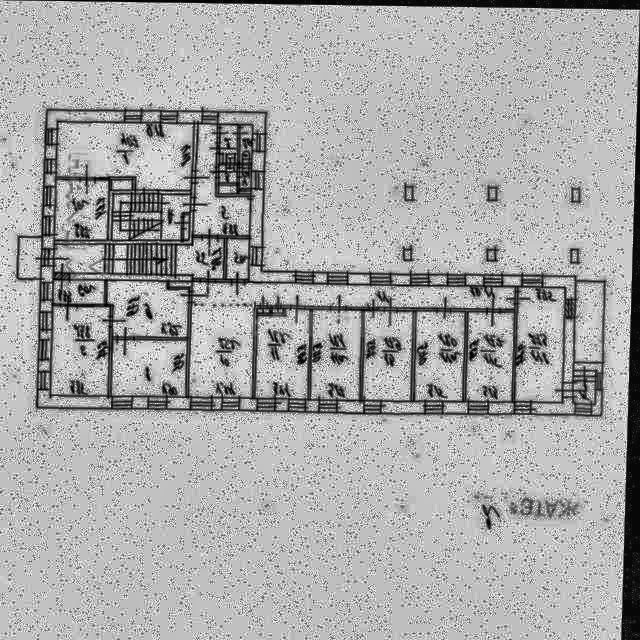room: (191, 282, 517, 400), (57, 122, 195, 189), (55, 234, 226, 279), (195, 123, 252, 235), (518, 285, 568, 400), (53, 306, 112, 395), (258, 307, 312, 398), (108, 280, 191, 338), (313, 309, 364, 397), (418, 309, 467, 399), (366, 309, 415, 398), (468, 310, 517, 399), (116, 340, 189, 395), (114, 193, 191, 240), (57, 178, 110, 239), (55, 279, 107, 304), (20, 236, 43, 280), (229, 238, 251, 278), (576, 379, 598, 402), (241, 124, 253, 162), (221, 124, 239, 148), (220, 148, 237, 171), (241, 164, 252, 188), (220, 171, 237, 182), (185, 214, 190, 239), (274, 307, 284, 312), (259, 308, 271, 312)
